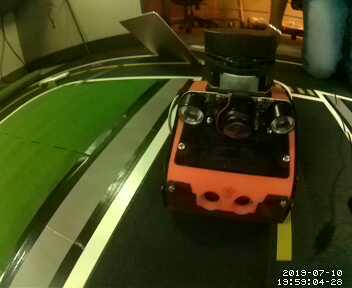pheeno: (163, 29, 294, 227)
